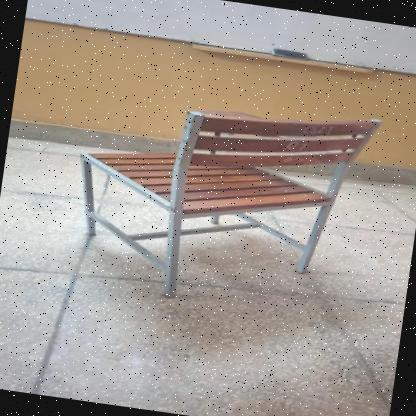chair: (53, 66, 396, 336)
